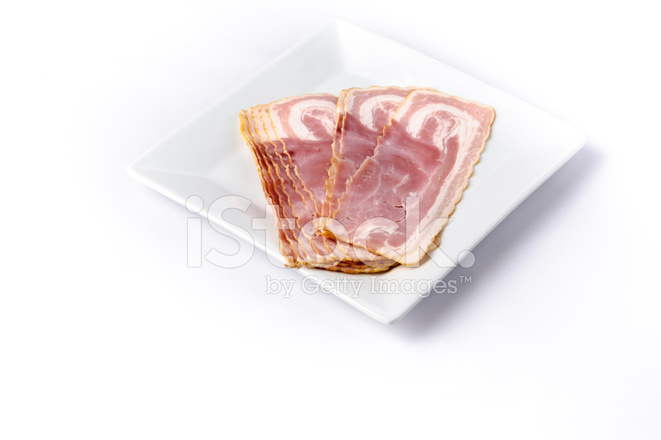bacon: (224, 51, 511, 301)
